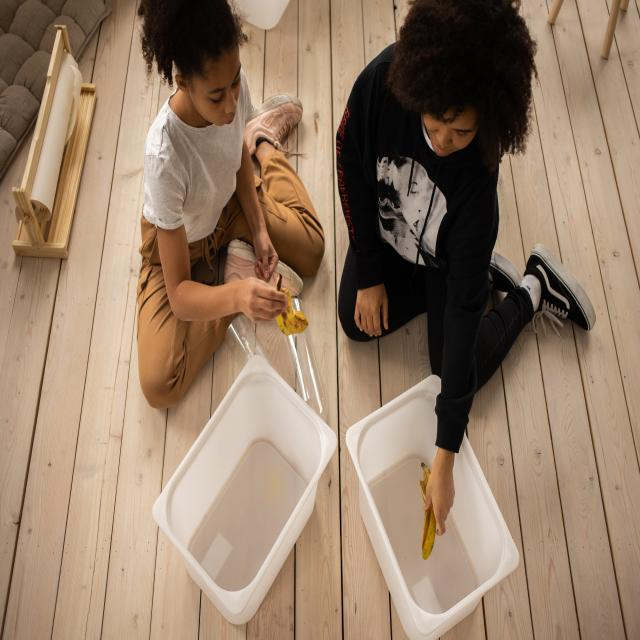plastic: (194, 402, 309, 596)
